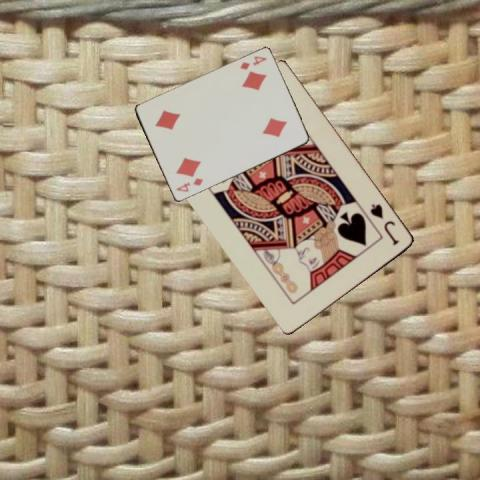4d: (172, 176, 204, 194), (237, 54, 268, 72)
Js: (368, 200, 402, 246)
